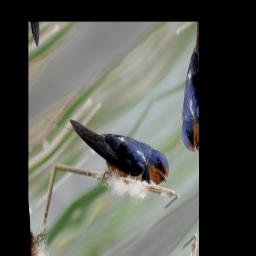Swallow: (69, 65, 175, 229)
